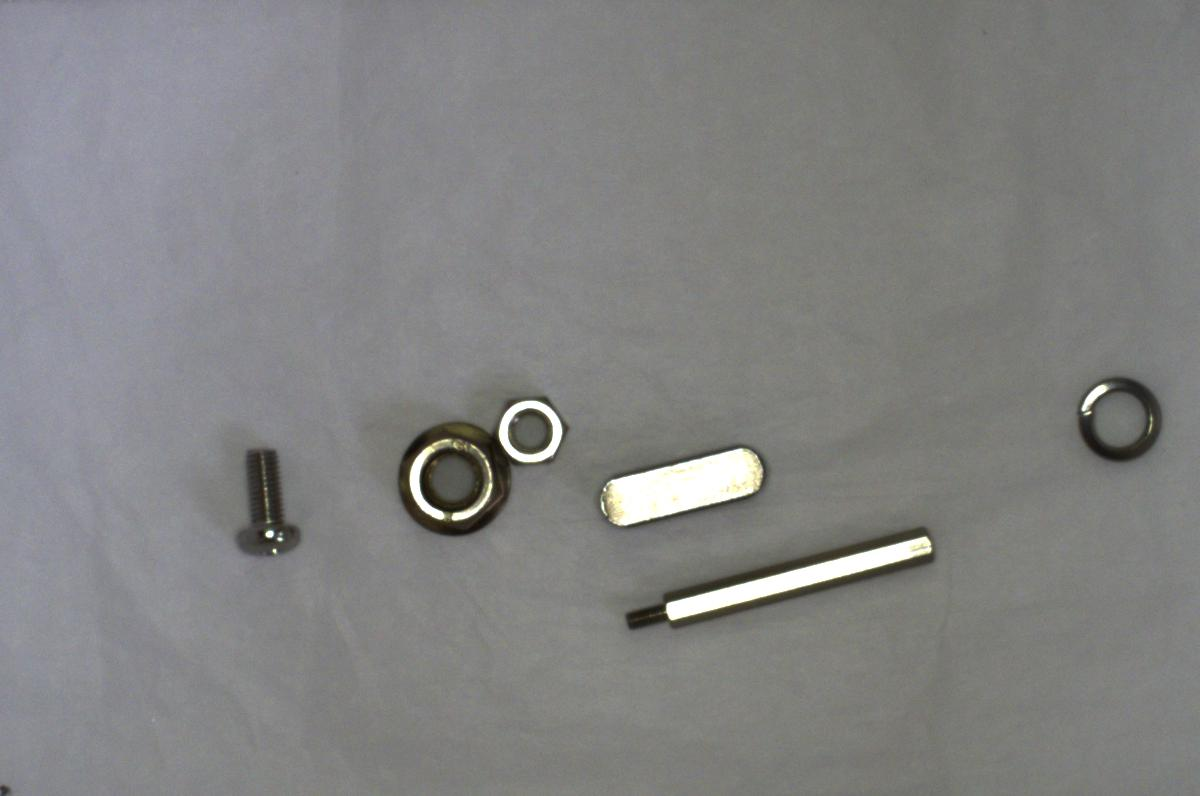Flange nut: (378, 413, 519, 541)
Hexagon nut: (487, 385, 575, 475)
Hexagonal steel column: (612, 525, 946, 628)
Keybar: (587, 436, 778, 527)
Round head screw: (233, 429, 308, 562)
Spring washer: (1066, 370, 1168, 467)
